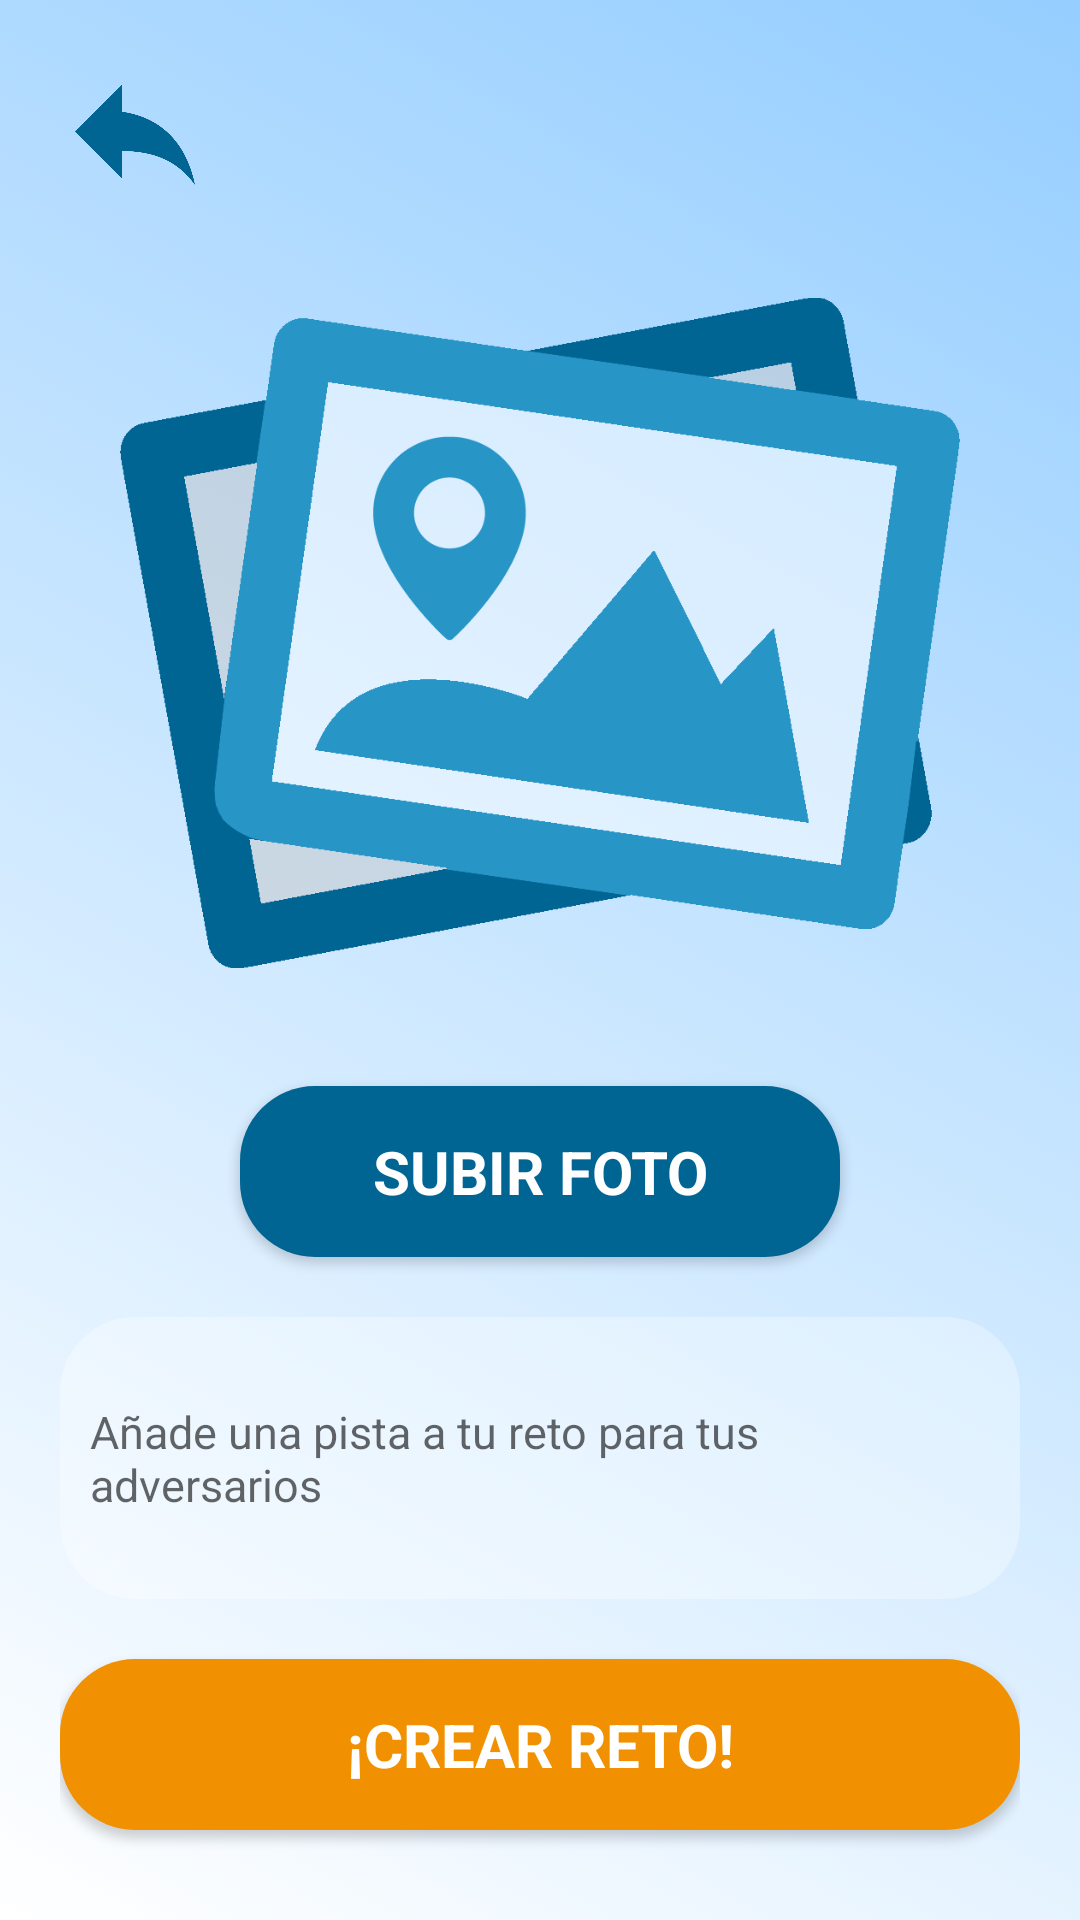

Where icons sit on this 1080×1920 app screen, as bbox=(x1, y1, x2, y2):
backarrowb: bbox=(75, 85, 195, 185)
